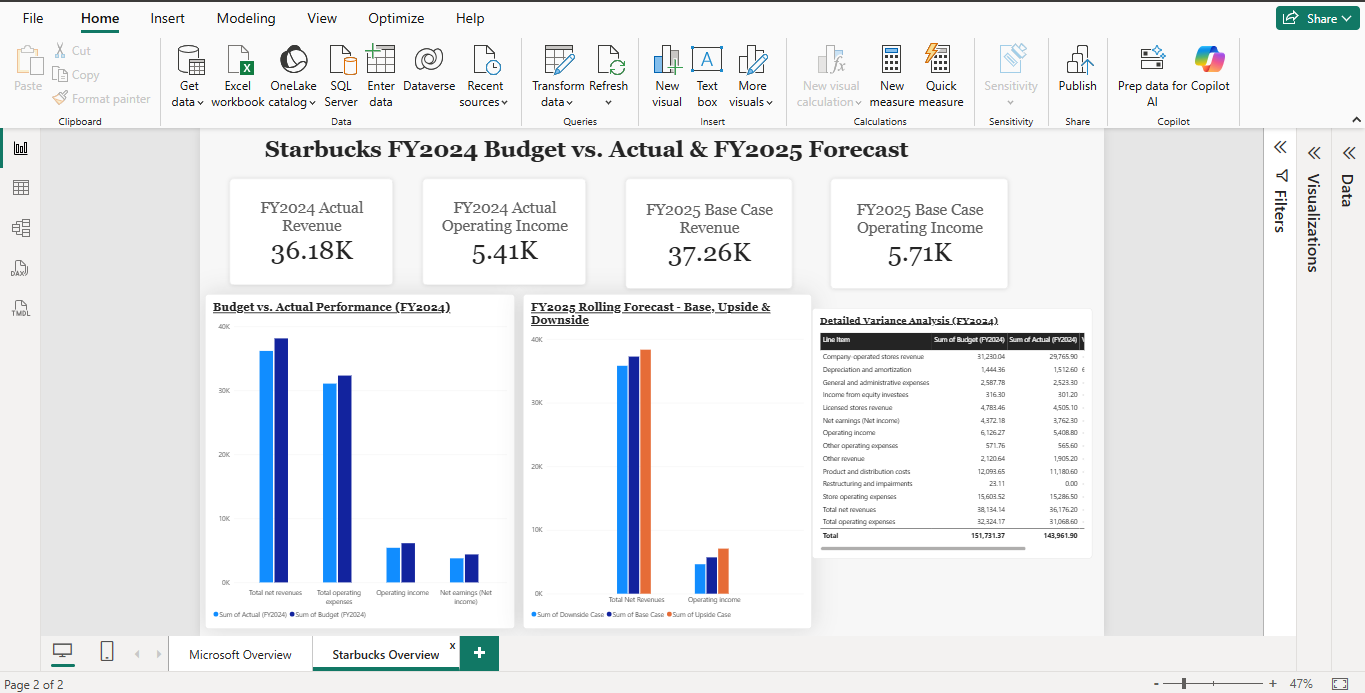

The page's visual inventory and layout, read from the dashboard file:
{"tool":"powerbi","page":{"name":"Starbucks Overview","canvas":[1920,1080],"ordinal":1},"visuals":[{"type":"textbox","box":[10.1,17.6,1623.1,98.1],"z":0},{"type":"clusteredColumnChart","title":"Budget vs. Actual Performance (FY2024)","fields":{"Category":["Budget vs Actual.Line Item"],"Y":["Sum(Budget vs Actual.Actual (FY2024))","Sum(Budget vs Actual.Budget (FY2024))"]},"box":[10.1,352.3,659.3,712.1],"z":1000},{"type":"clusteredColumnChart","title":"FY2025 Rolling Forecast - Base, Upside & Downside","fields":{"Category":["Rolling Forecast.Line Item"],"Y":["Sum(Rolling Forecast.Downside Case)","Sum(Rolling Forecast.Base Case)","Sum(Rolling Forecast.Upside Case)"]},"box":[687,352.3,614,712.1],"z":2000},{"type":"tableEx","title":"Detailed Variance Analysis (FY2024)","fields":{"Values":["Budget vs Actual.Line Item","Sum(Budget vs Actual.Budget (FY2024))","Sum(Budget vs Actual.Actual (FY2024))","Budget vs Actual.Variance ($)","Budget vs Actual.Variance (%)"]},"box":[1301,382.5,596.4,533.5],"z":3000},{"type":"cardVisual","fields":{"Data":["Sum(Budget vs Actual.Actual (FY2024))"]},"box":[52.8,98.1,367.4,246.6],"z":4000},{"type":"cardVisual","fields":{"Data":["Sum(Budget vs Actual.Actual (FY2024))"]},"box":[463,98.1,367.4,246.6],"z":5000},{"type":"cardVisual","fields":{"Data":["Sum(Rolling Forecast.Base Case)"]},"box":[1331.2,98.1,397.6,254.2],"z":6000},{"type":"cardVisual","fields":{"Data":["Sum(Rolling Forecast.Base Case)"]},"box":[895.8,98.1,374.9,254.2],"z":7000}]}

Visuals, with their boxes on the page's 1920x1080 design canvas (x1, y1, x2, y2). These are canvas units, not pixel positions in the 1365x693 screenshot, which may show the page scaled, cropped or inside an application window:
textbox: box(10, 18, 1633, 116)
"Budget vs. Actual Performance (FY2024)" clusteredColumnChart: box(10, 352, 669, 1064)
"FY2025 Rolling Forecast - Base, Upside & Downside" clusteredColumnChart: box(687, 352, 1301, 1064)
"Detailed Variance Analysis (FY2024)" tableEx: box(1301, 382, 1897, 916)
cardVisual - Sum(Budget vs Actual.Actual (FY2024)): box(53, 98, 420, 345)
cardVisual - Sum(Budget vs Actual.Actual (FY2024)): box(463, 98, 830, 345)
cardVisual - Sum(Rolling Forecast.Base Case): box(1331, 98, 1729, 352)
cardVisual - Sum(Rolling Forecast.Base Case): box(896, 98, 1271, 352)
